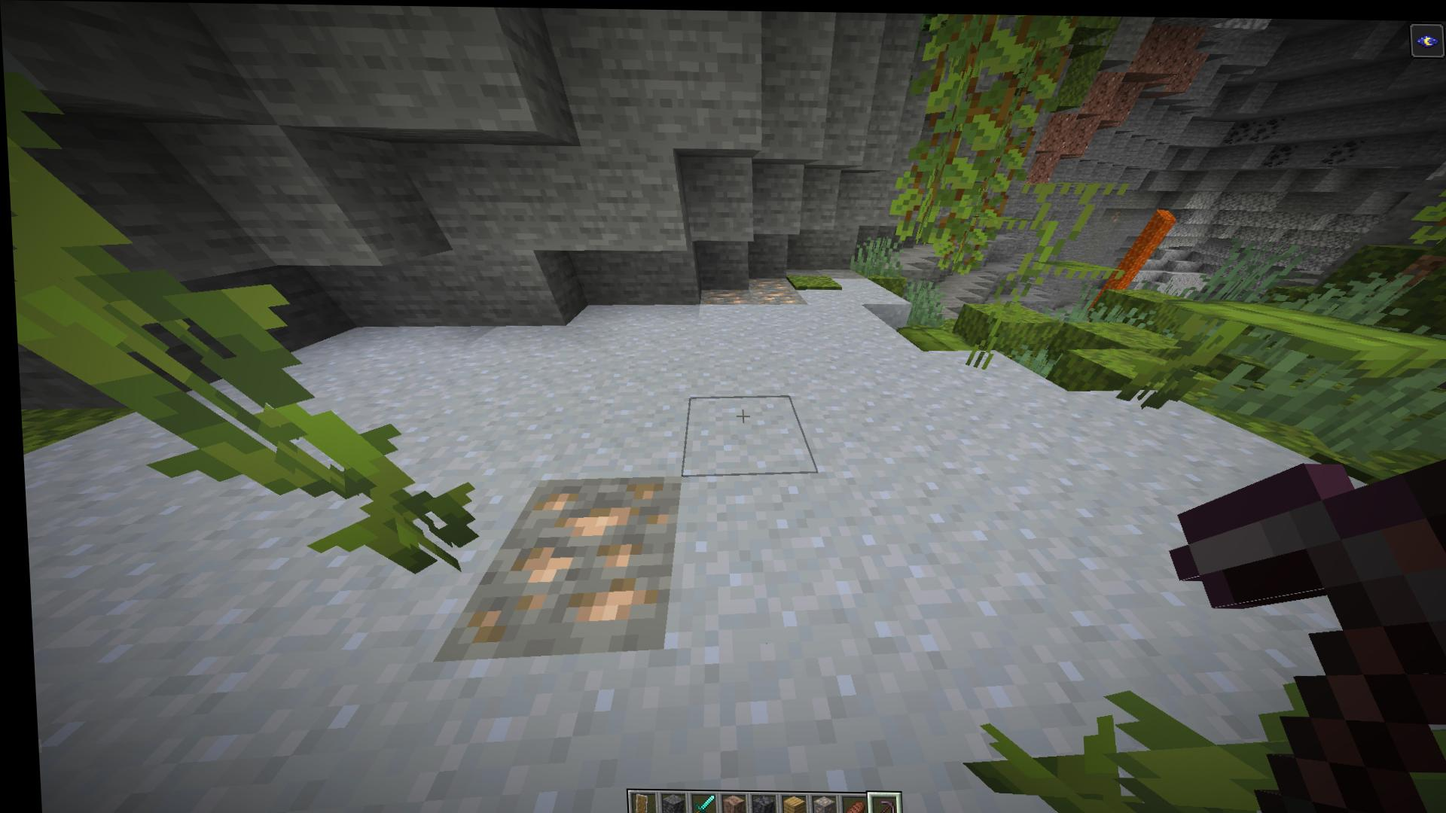iron ore: (453, 472, 679, 661), (743, 273, 794, 305), (696, 284, 750, 304)
